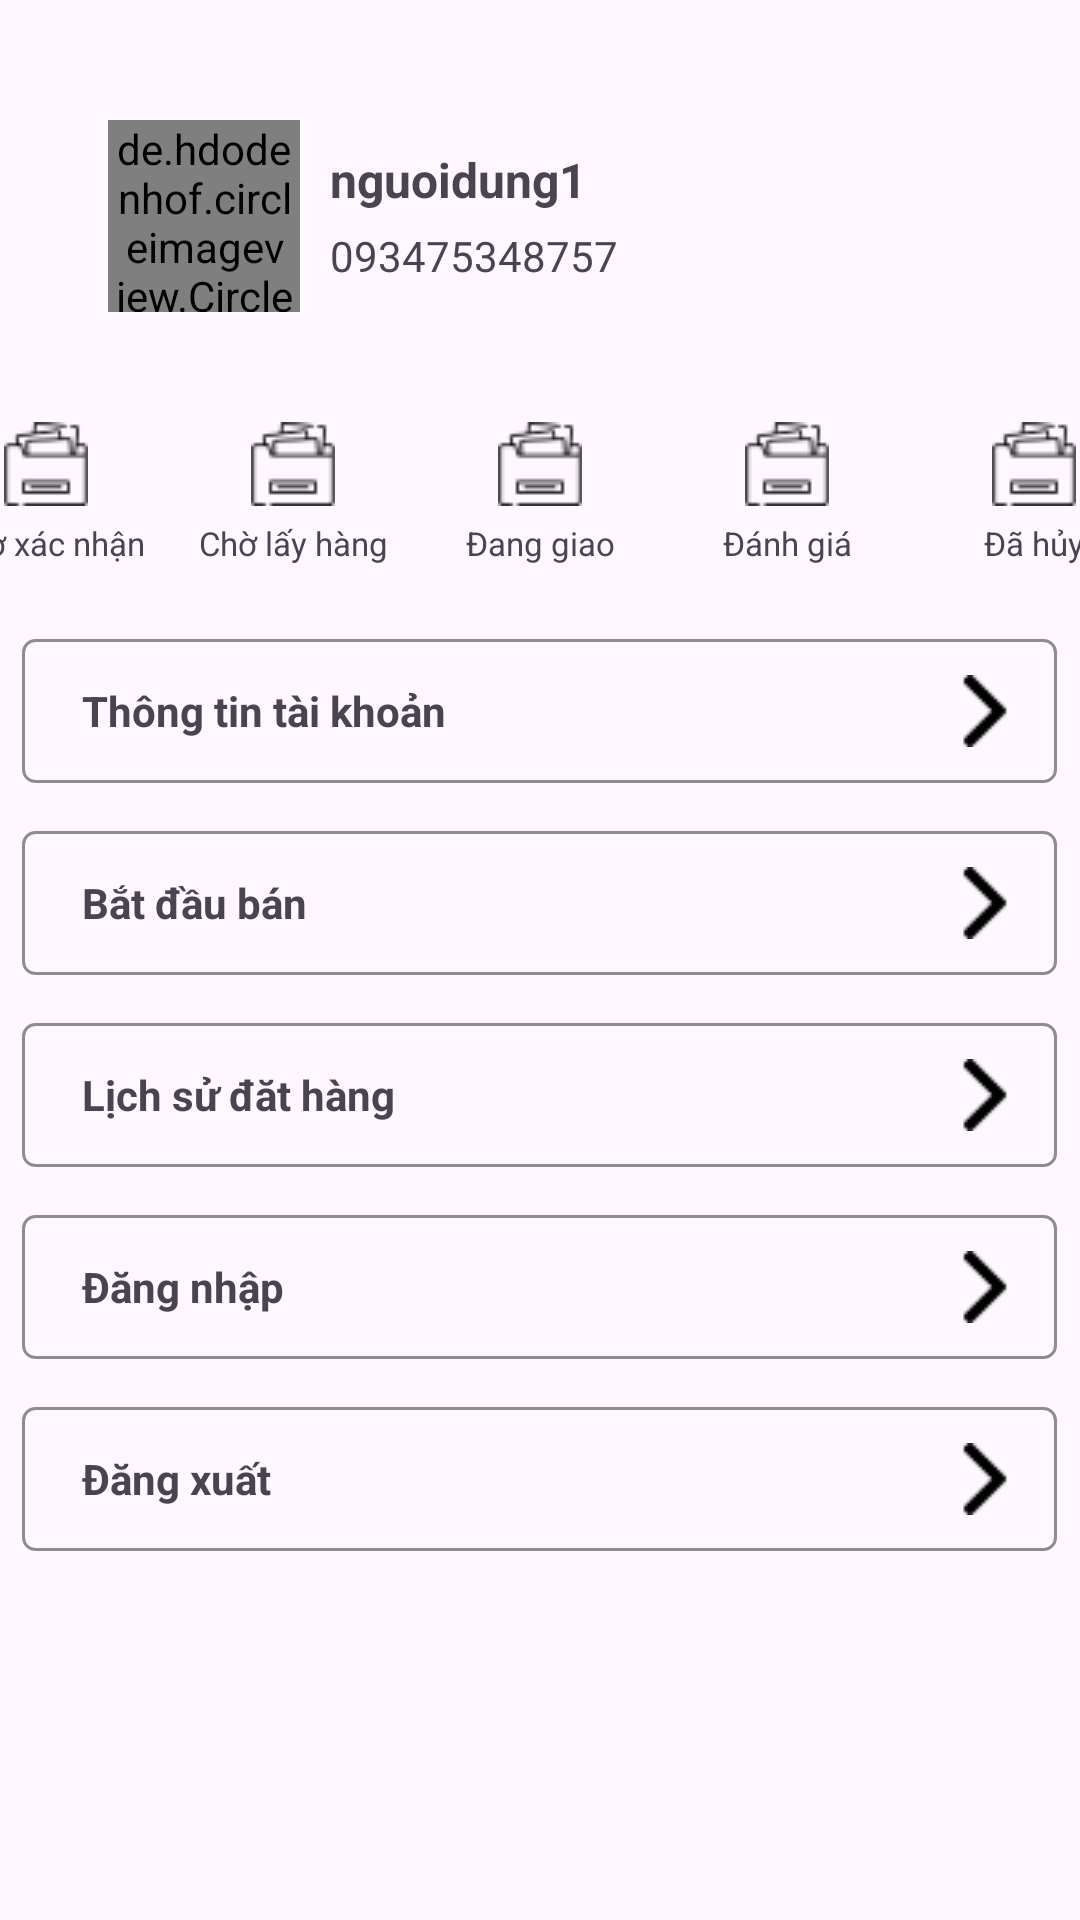

Where to tap for icons on this 1080px x 1920px app screen, as (x,y):
file: (46,464), (293,464), (540,464), (787,464), (1034,464)
right: (985,711), (985,903), (985,1095), (985,1287), (985,1479)
